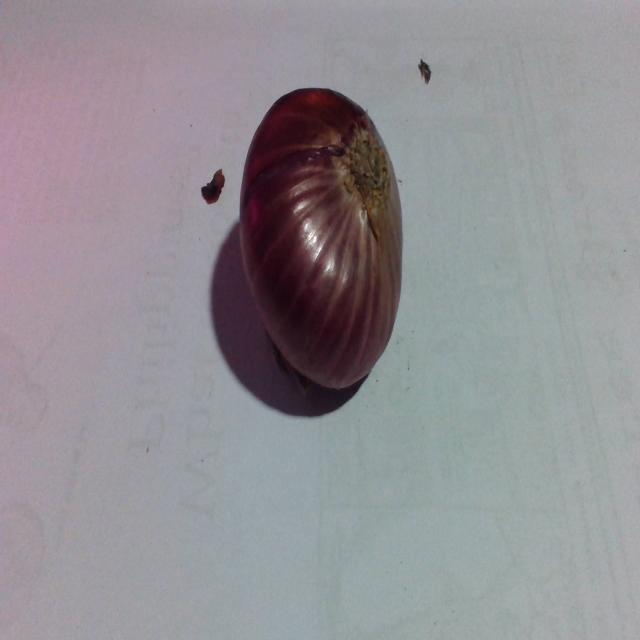onion: (239, 82, 404, 392)
